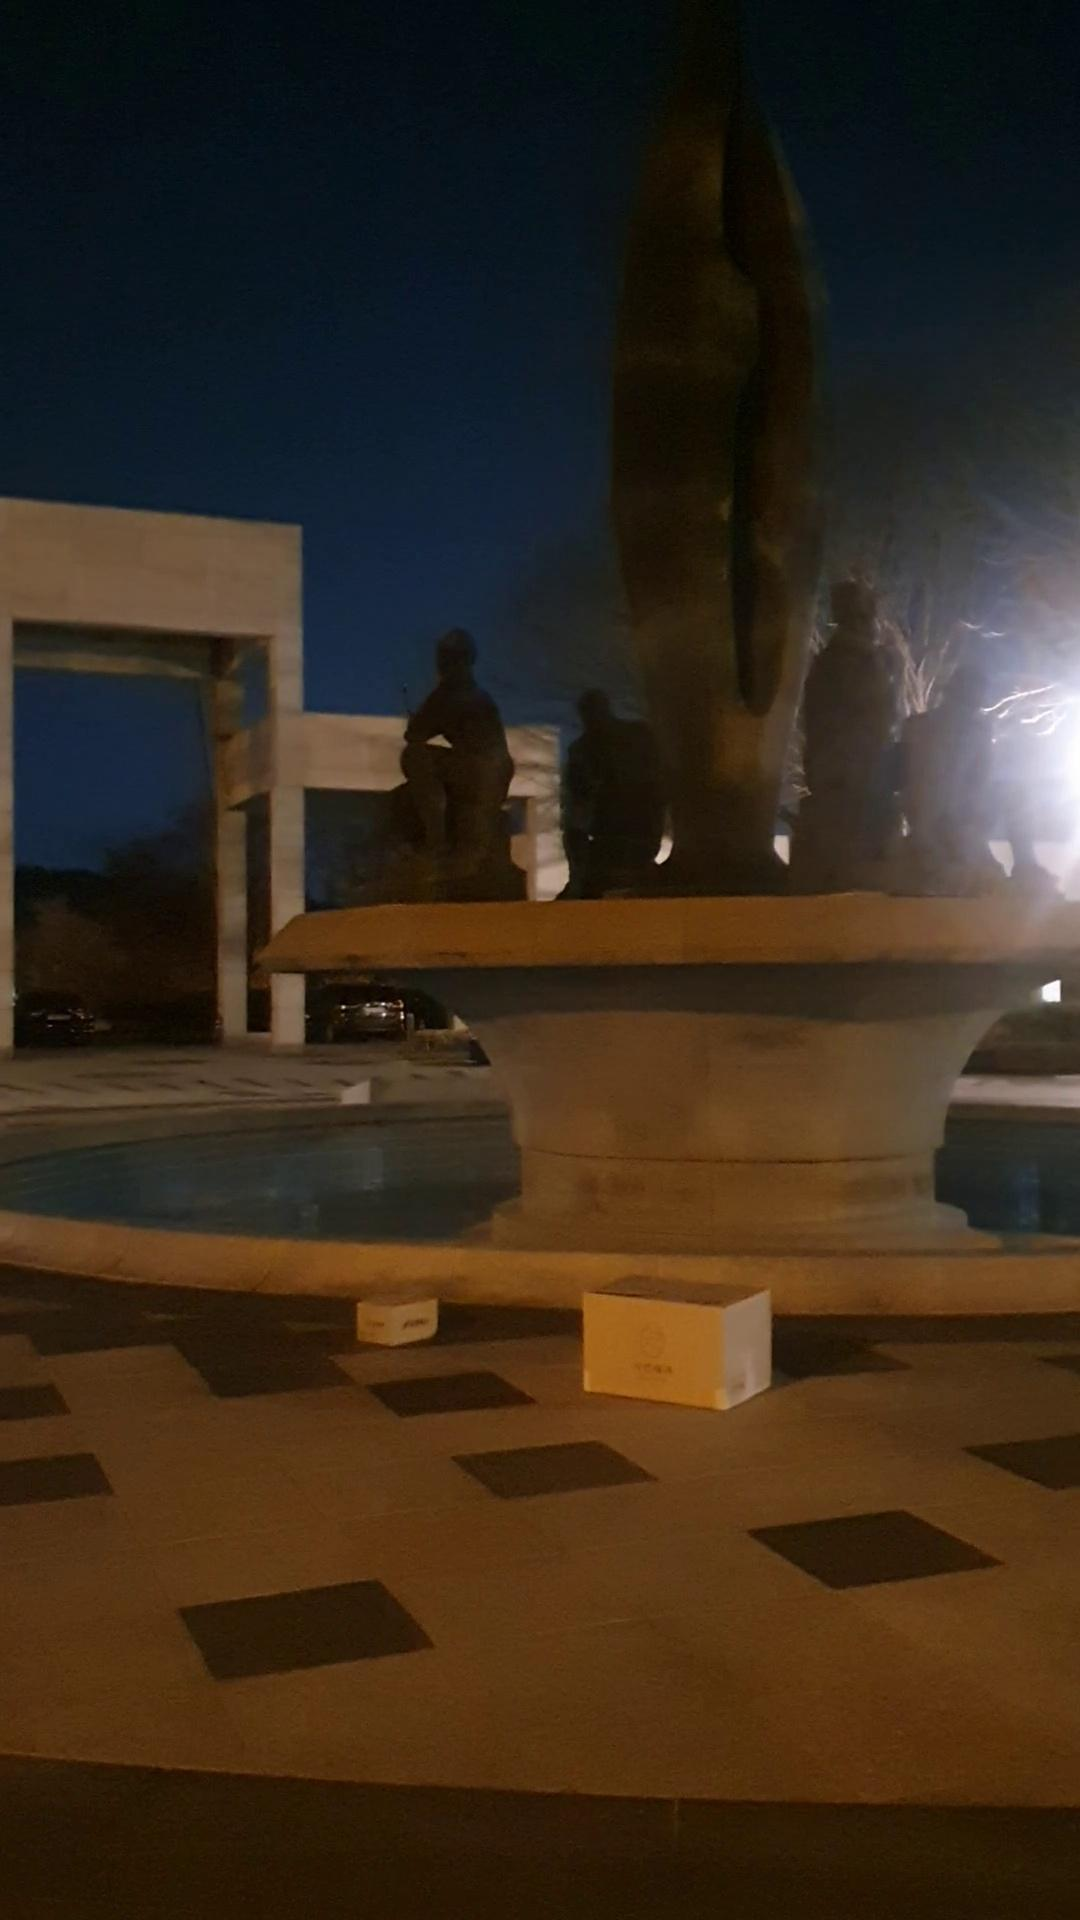Box: (563, 1273, 777, 1414), (338, 1280, 455, 1342)
